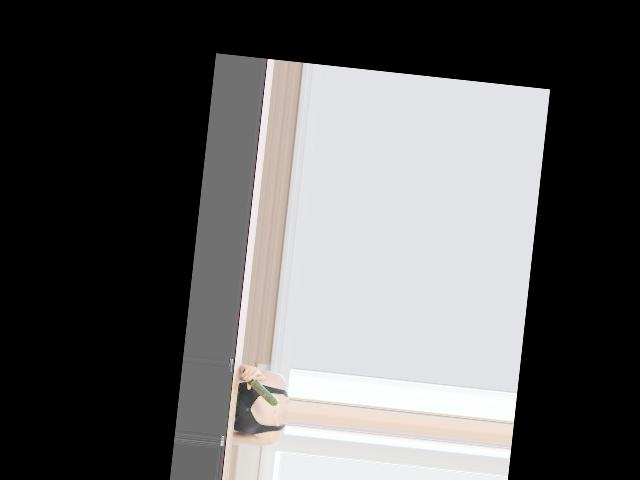cucumber: (238, 368, 282, 406)
